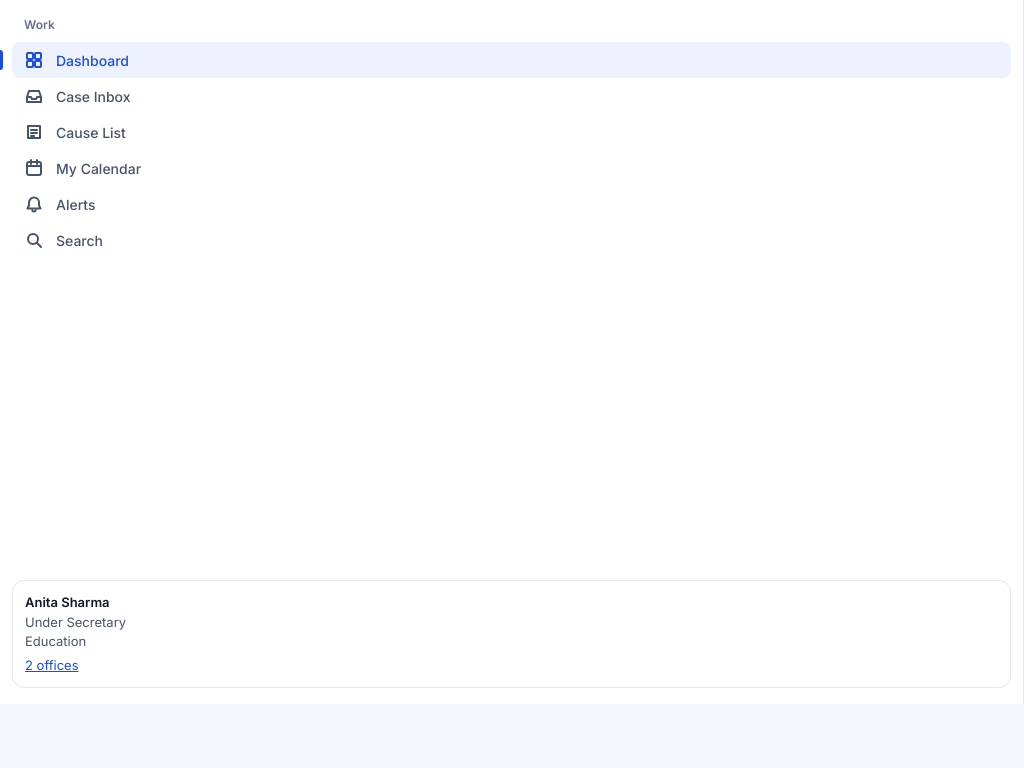
Scenario: header and sidebar foot › the foot names the person and the primary office and lists every membership
The width and height of the screenshot is (1024, 768).
Check: the text "Anita Sharma" is shown, box [25,594,110,610]
Check: the text "Under Secretary" is shown, box [25,614,126,630]
Click the button "2 offices" at x=52, y=665, box [25,656,78,675]
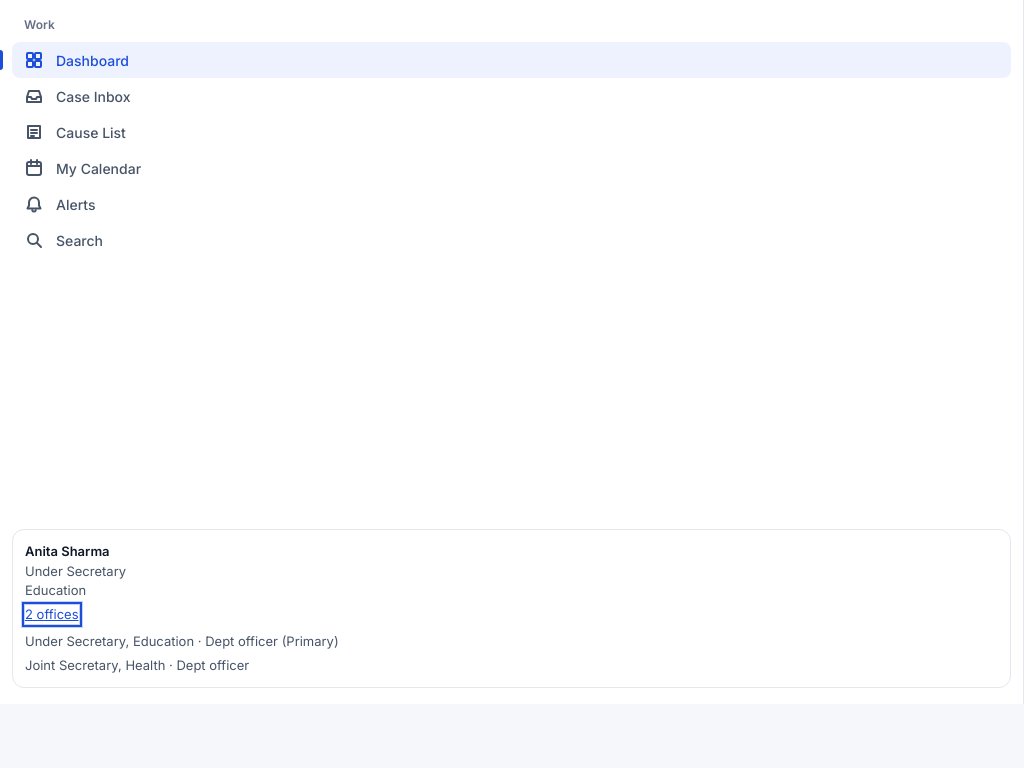
Check: the list item "Joint Secretary, Health · Dept officer" is shown, box [25,656,249,672]
Check: the list item "Under Secretary, Education · Dept officer (Primary)" is shown, box [25,633,339,649]
